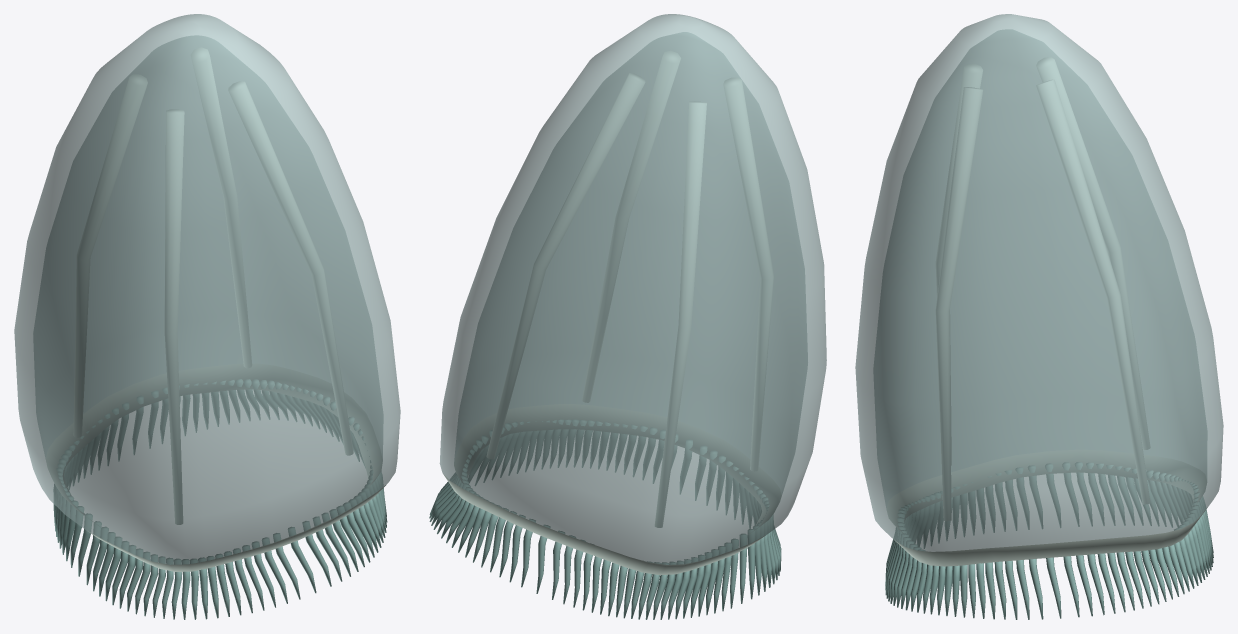
The model's file is burgessomedusa.glb.
The picture shows the model from 3 angles, left to right: view 1: azimuth 30°, elevation 25°; view 2: azimuth 150°, elevation 25°; view 3: azimuth 270°, elevation 25°; orthographic projection.
Visible parts, largest first — view 1: softly-contracted-hollow-bell, short-gently-splayed-tentacle-fringe, four-inner-bell-folds; view 2: softly-contracted-hollow-bell, short-gently-splayed-tentacle-fringe, four-inner-bell-folds; view 3: softly-contracted-hollow-bell, short-gently-splayed-tentacle-fringe, four-inner-bell-folds.
Boxes of the visible parts, <box> form: softly-contracted-hollow-bell: <box>14,14,400,571</box>; short-gently-splayed-tentacle-fringe: <box>53,379,387,619</box>; four-inner-bell-folds: <box>73,47,353,524</box>; softly-contracted-hollow-bell: <box>439,14,826,575</box>; short-gently-splayed-tentacle-fringe: <box>429,419,781,619</box>; four-inner-bell-folds: <box>487,51,773,527</box>; softly-contracted-hollow-bell: <box>855,14,1223,566</box>; short-gently-splayed-tentacle-fringe: <box>885,462,1213,619</box>; four-inner-bell-folds: <box>936,57,1150,520</box>.
Size of the model in its own units: 0.0957 by 0.1567 by 0.0939.
